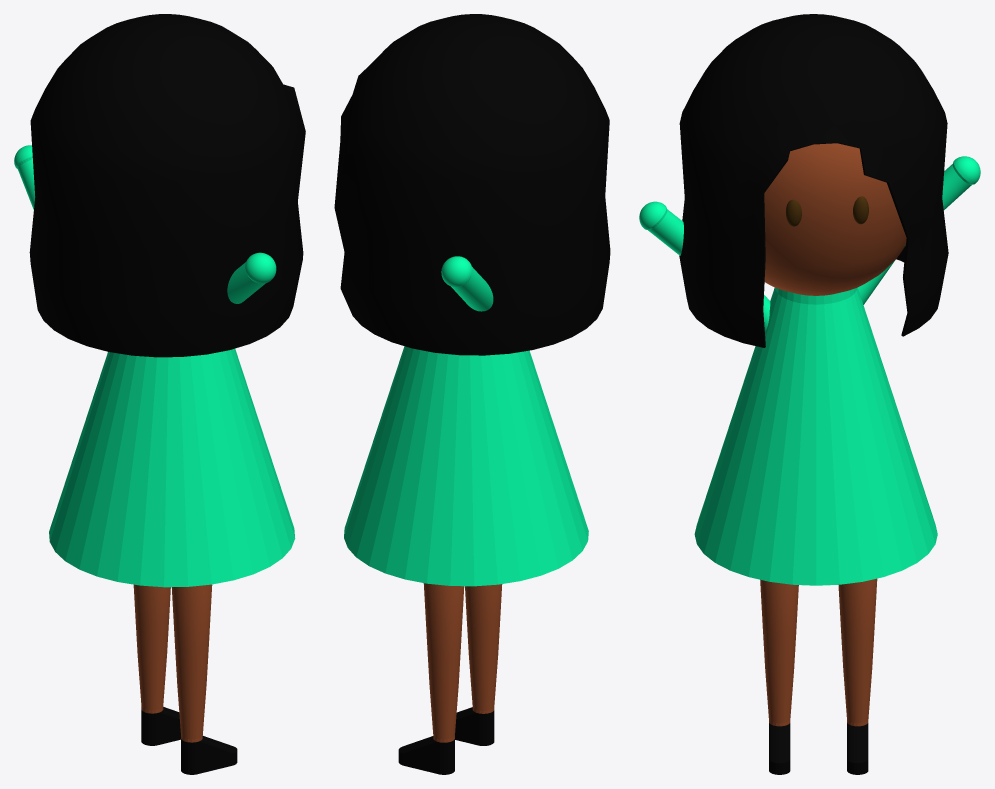
The model's file is Girl1_Goal.fbx.
3 renders of one model, left to right at view 1: azimuth 30°, elevation 25°; view 2: azimuth 150°, elevation 25°; view 3: azimuth 270°, elevation 25°, orthographic.
Visible parts, largest first — view 1: Sphere032, Sphere027, Cylinder009, Sphere031, Sphere030, Sphere029; view 2: Sphere032, Sphere027, Sphere031, Cylinder009, Sphere029; view 3: Sphere027, Sphere032, Sphere031, Cylinder009, Sphere029, Sphere030.
Part boxes in pixels (left/top/right/bottom): Sphere032: left=29, top=14, right=305, bottom=357; Sphere027: left=49, top=348, right=295, bottom=587; Cylinder009: left=171, top=584, right=237, bottom=774; Sphere031: left=133, top=584, right=180, bottom=745; Sphere030: left=227, top=252, right=276, bottom=303; Sphere029: left=14, top=145, right=35, bottom=209; Sphere032: left=334, top=14, right=610, bottom=355; Sphere027: left=344, top=346, right=588, bottom=586; Sphere031: left=398, top=583, right=464, bottom=774; Cylinder009: left=455, top=584, right=502, bottom=745; Sphere029: left=441, top=256, right=493, bottom=311; Sphere027: left=694, top=143, right=937, bottom=585; Sphere032: left=679, top=14, right=948, bottom=347; Sphere031: left=838, top=578, right=877, bottom=774; Cylinder009: left=760, top=579, right=798, bottom=774; Sphere029: left=857, top=156, right=980, bottom=304; Sphere030: left=639, top=201, right=770, bottom=331.
Bounding box in the file's own units: 107 × 321 × 137.
1 material, 1 textured.
